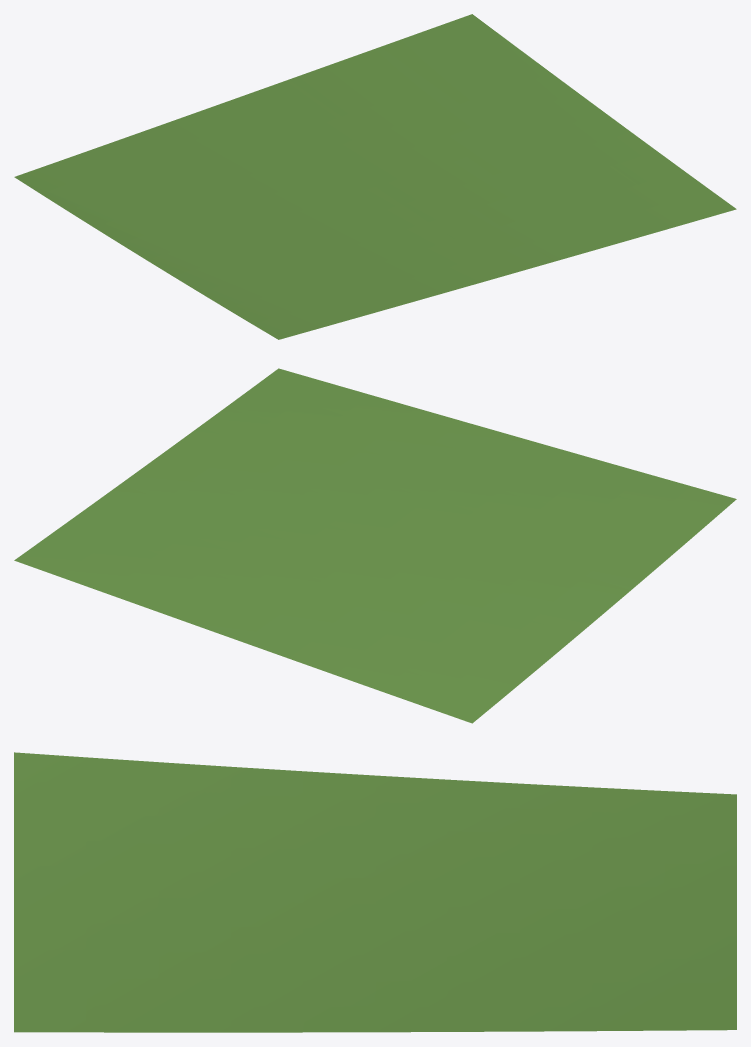
Rendered from terrain-17-15.gltf.
3 views of the same model, one above another, from view 1: azimuth 30°, elevation 25°; view 2: azimuth 150°, elevation 25°; view 3: azimuth 270°, elevation 25° (orthographic). The views are drawn at different scales.
Bounding box in the file's own units: 50 × 5.34 × 50.
